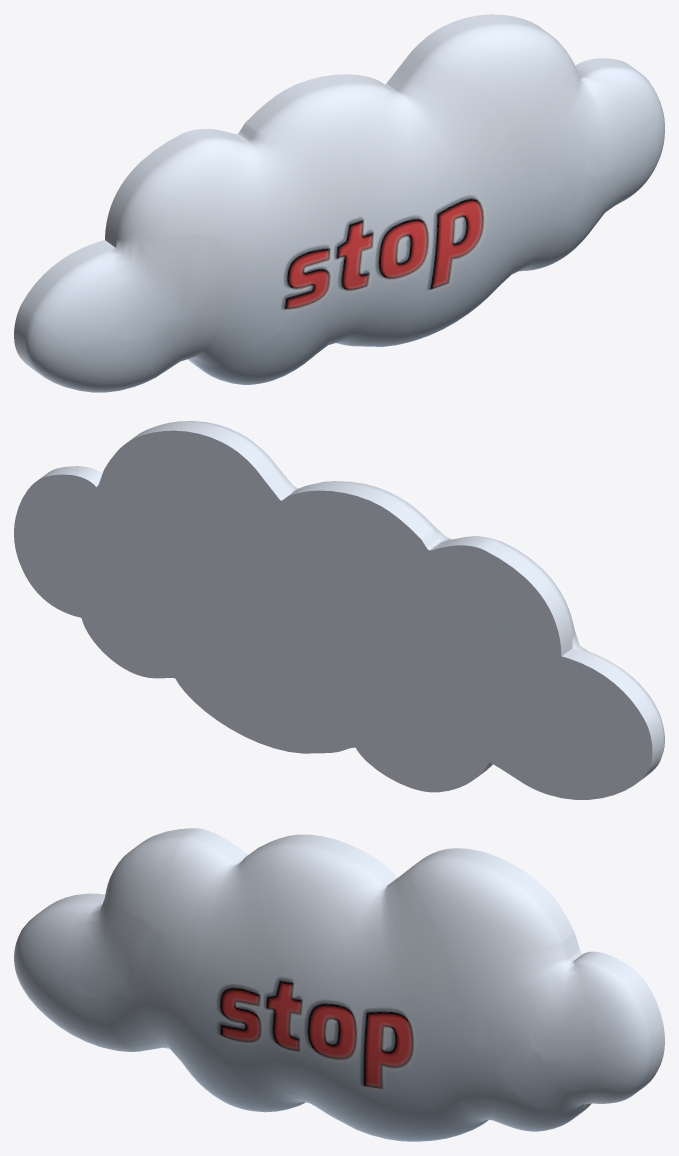
File: cloud_stop.obj
3 renders of one model, top to bottom at view 1: azimuth 30°, elevation 25°; view 2: azimuth 150°, elevation 25°; view 3: azimuth 330°, elevation 25°, orthographic.
Parts seen in each view (by area): view 1: cloud2_flat; view 2: cloud2_flat; view 3: cloud2_flat.
Part boxes in pixels (x1=…): cloud2_flat: x1=14, y1=14, x2=664, y2=392; cloud2_flat: x1=14, y1=421, x2=664, y2=799; cloud2_flat: x1=14, y1=828, x2=664, y2=1141.
Bounding box in the file's own units: 19.47 × 8.83 × 2.24.
